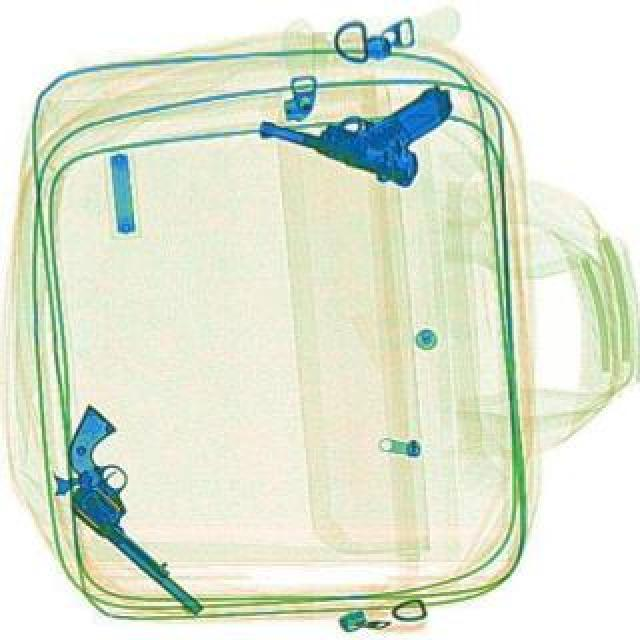gun: (20, 402, 262, 618), (250, 36, 458, 192)
